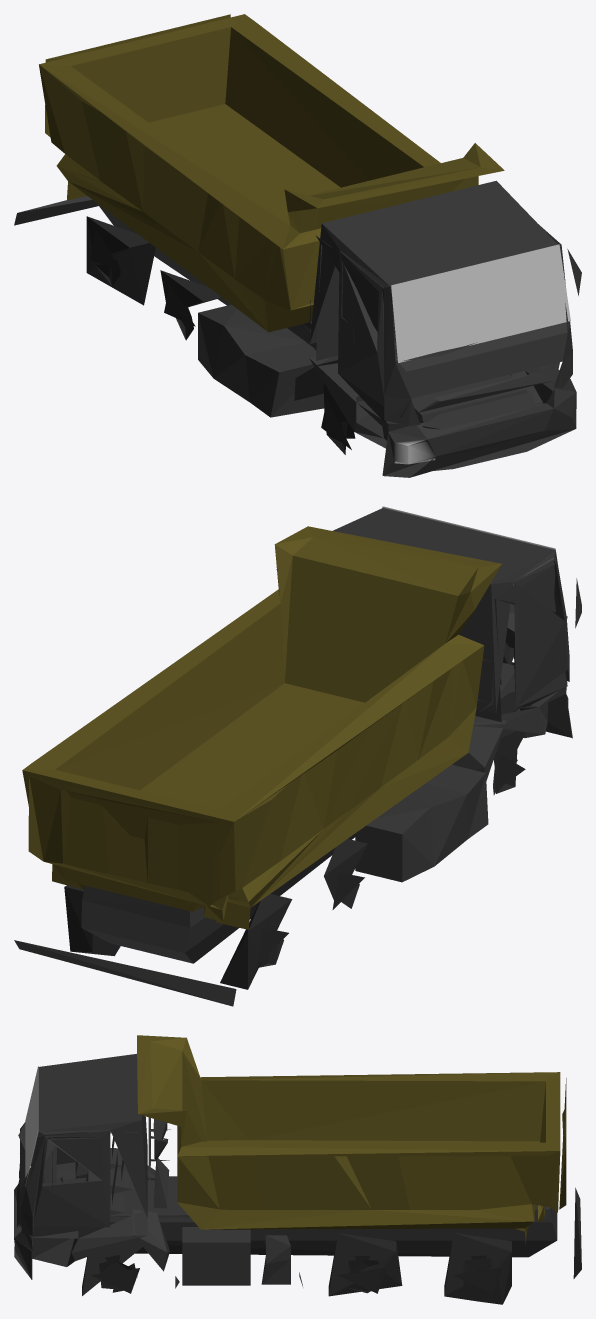
File: dump-truck.lod1.glb
3 renders of one model, top to bottom at view 1: azimuth 30°, elevation 25°; view 2: azimuth 150°, elevation 25°; view 3: azimuth 270°, elevation 25°, orthographic. The views are drawn at different scales.
Visible parts, largest first — view 1: dump_truck_01_M_dumb_truck_B_01_0; view 2: dump_truck_01_M_dumb_truck_B_01_0; view 3: dump_truck_01_M_dumb_truck_B_01_0.
Part boxes in pixels (x1,y1,x2,y2): dump_truck_01_M_dumb_truck_B_01_0: (14,14,581,477); dump_truck_01_M_dumb_truck_B_01_0: (14,506,581,1006); dump_truck_01_M_dumb_truck_B_01_0: (14,1035,581,1304).
Bounding box in the file's own units: 2.38 × 2.57 × 6.44.
